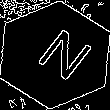N_SW: (21, 23, 89, 87)
